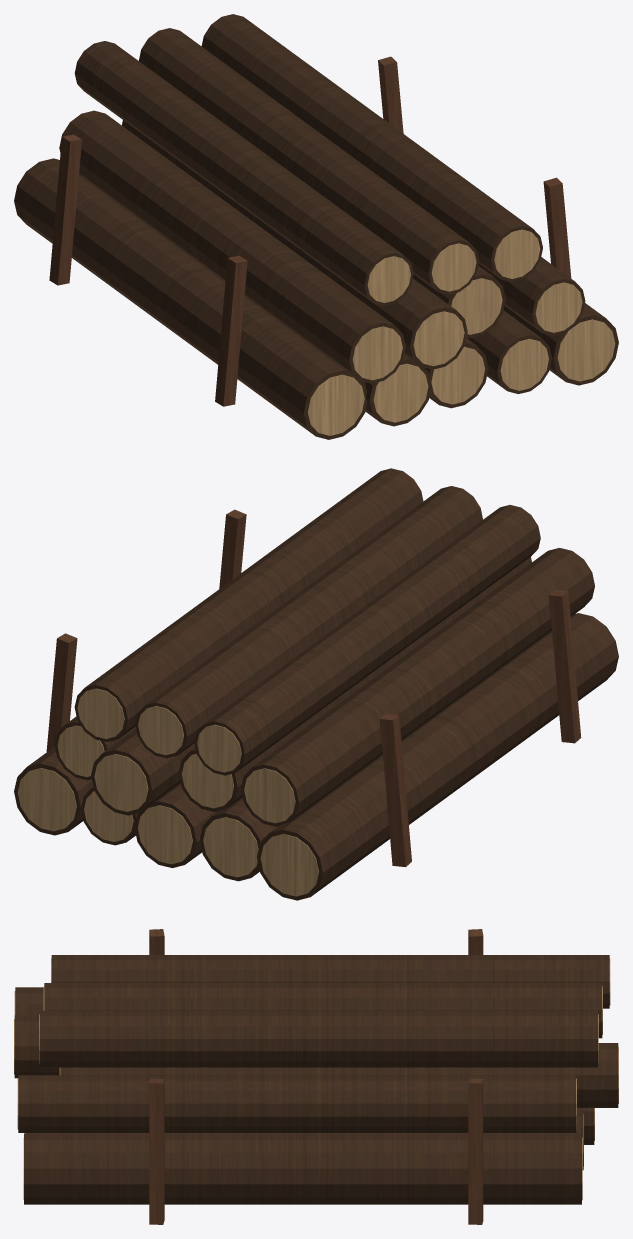
The model's file is pilha_toras.glb.
3 renders of one model, top to bottom at view 1: azimuth 30°, elevation 25°; view 2: azimuth 150°, elevation 25°; view 3: azimuth 270°, elevation 25°, orthographic. The views are drawn at different scales.
Parts seen in each view (by area): view 1: pilha_toras_casca, pilha_toras_madeira_crua, pilha_toras_madeira_escura; view 2: pilha_toras_casca, pilha_toras_madeira_crua, pilha_toras_madeira_escura; view 3: pilha_toras_casca, pilha_toras_madeira_escura, pilha_toras_madeira_crua.
Part boxes in pixels (x1=…): pilha_toras_casca: x1=14, y1=14, x2=618, y2=439; pilha_toras_madeira_crua: x1=307, y1=229, x2=615, y2=435; pilha_toras_madeira_escura: x1=49, y1=56, x2=571, y2=406; pilha_toras_casca: x1=14, y1=468, x2=618, y2=900; pilha_toras_madeira_crua: x1=17, y1=688, x2=318, y2=896; pilha_toras_madeira_escura: x1=46, y1=509, x2=581, y2=867; pilha_toras_casca: x1=14, y1=955, x2=618, y2=1204; pilha_toras_madeira_escura: x1=149, y1=929, x2=483, y2=1224; pilha_toras_madeira_crua: x1=14, y1=958, x2=618, y2=1200.
Bounding box in the file's own units: 1.98 × 0.88 × 3.04.
3 materials, 3 textured.
